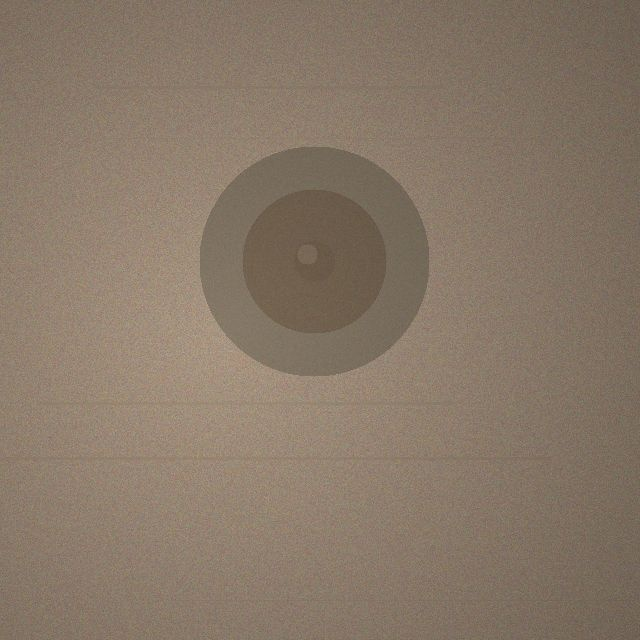good: (199, 146, 429, 376)
